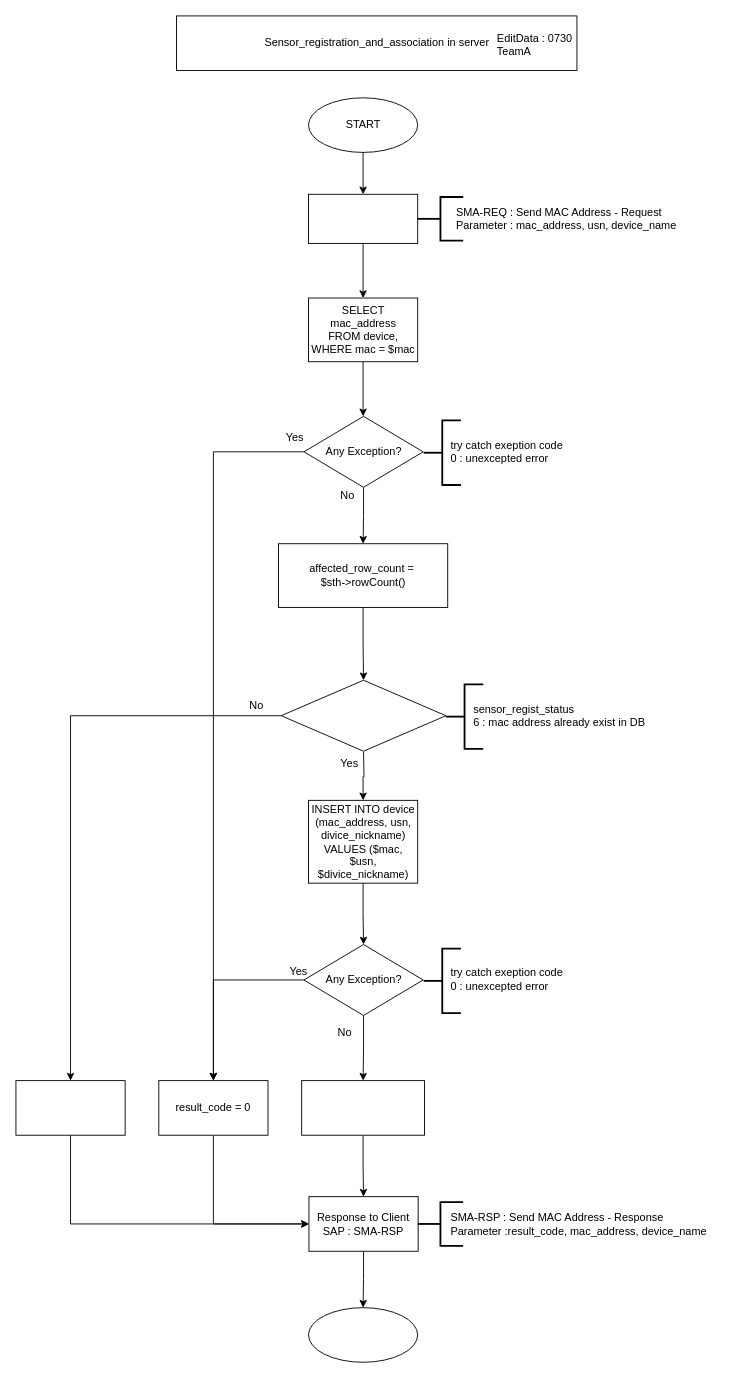
The diagram is 748 pixels wide and 1379 high, and some of its shapes have lost their labels. Each missing label, with the centre of its shape:
affected_row_count > 0: pixel 363 715
END: pixel 363 1334
Receive request from Client SAP : SMA-REQ: pixel 363 218
result_code = 1: pixel 363 1107
result_code = 6: pixel 70 1107
